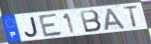1: (62, 12, 76, 35)
A: (103, 7, 127, 31)
B: (79, 9, 104, 34)
E: (37, 12, 64, 38)
J: (23, 16, 40, 38)
T: (122, 4, 140, 28)
